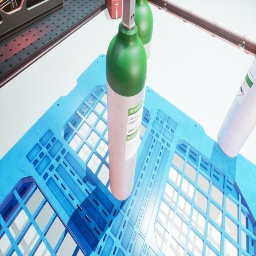0: (106, 0, 147, 200), (122, 0, 153, 144), (216, 54, 256, 157)
FirstAidBox ,: (105, 0, 122, 19)
